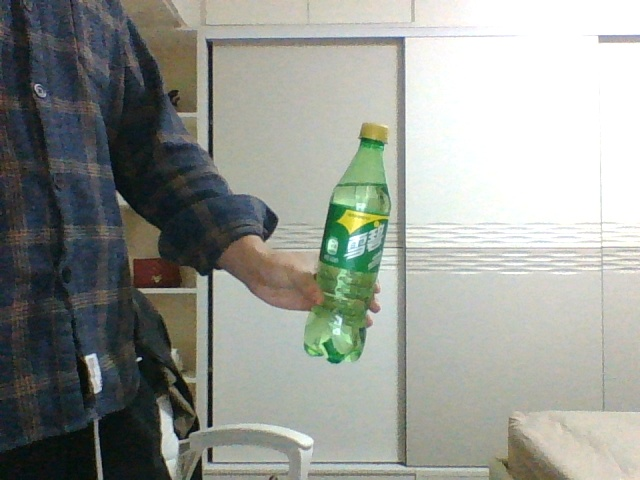Sprite: (302, 120, 392, 363)
